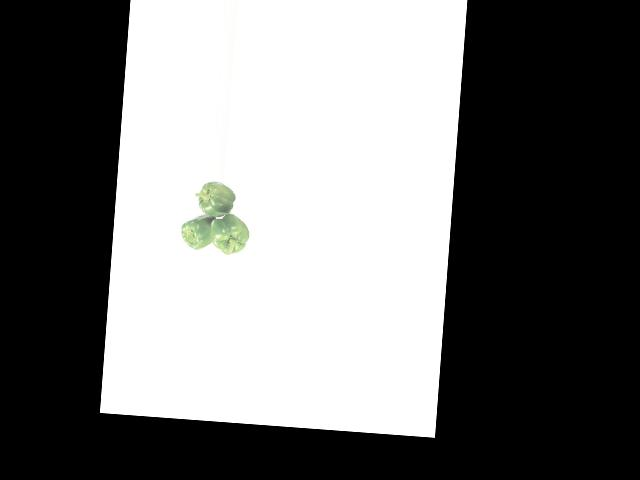bell_pepper: (207, 212, 254, 259)
